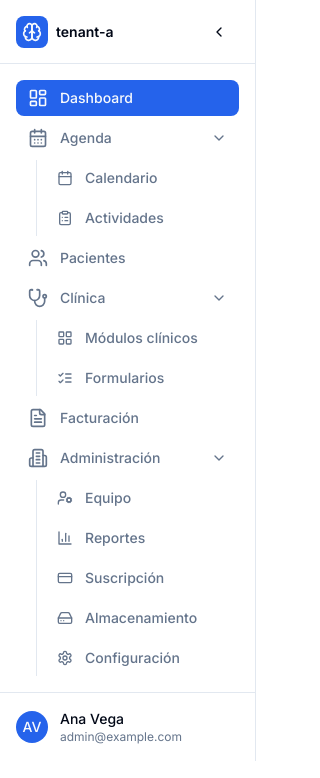
Test: Sidebar modules and submodules › collapses and expands the submodules of a module
The image size is (320, 778).
Click the button "Agenda" at (128,138), box x1=16 y1=120 x2=239 y2=156
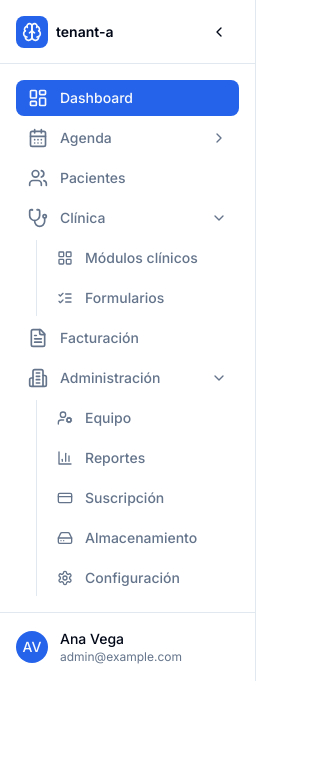
Expected: the link "Equipo" is shown, x1=57 y1=409 x2=131 y2=426
Now the button "Agenda" is collapsed
Now the link "Calendario" is gone
Click the button "Agenda" at (128,138), box x1=16 y1=120 x2=239 y2=156
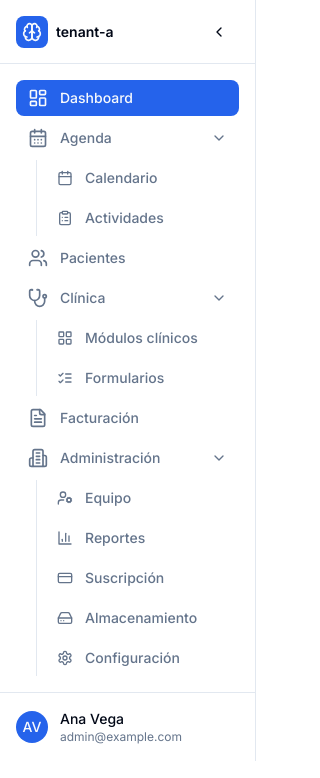
Now the link "Calendario" is shown, box x1=57 y1=169 x2=158 y2=186
